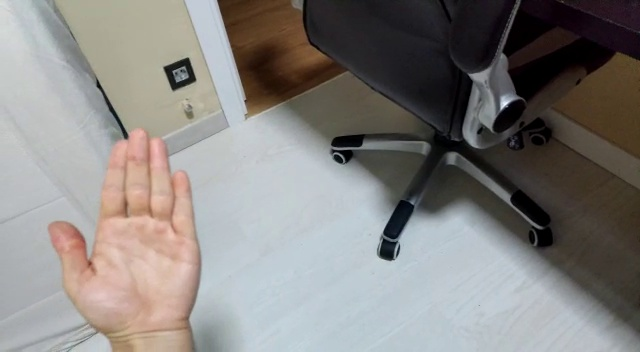Palm: (41, 124, 205, 351)
